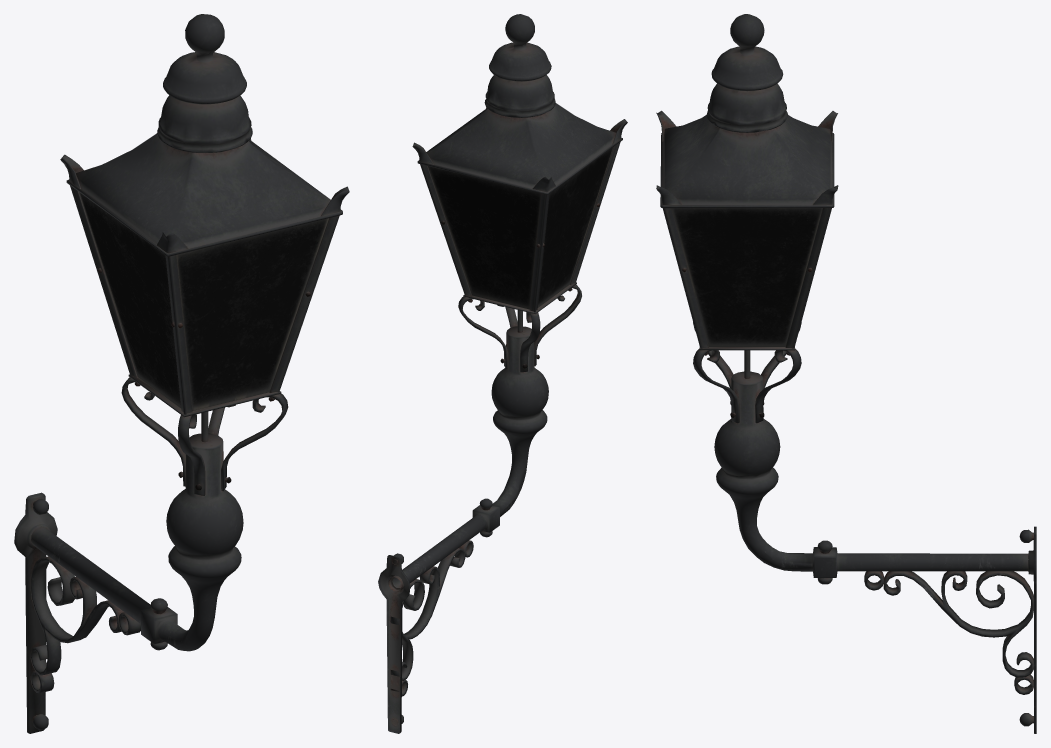
The model's file is street_lamp_02_1k.gltf.
3 views of the same model, side by side, from view 1: azimuth 30°, elevation 25°; view 2: azimuth 150°, elevation 25°; view 3: azimuth 270°, elevation 25° (orthographic). The views are drawn at different scales.
Parts seen in each view (by area): view 1: street_lamp_02; view 2: street_lamp_02; view 3: street_lamp_02.
Part boxes in pixels (x1=…): street_lamp_02: x1=14, y1=14, x2=349, y2=733; street_lamp_02: x1=378, y1=14, x2=627, y2=733; street_lamp_02: x1=656, y1=14, x2=1036, y2=733.
Bounding box in the file's own units: 0.3862 × 1.67 × 0.8067.
3 materials, 3 textured.
